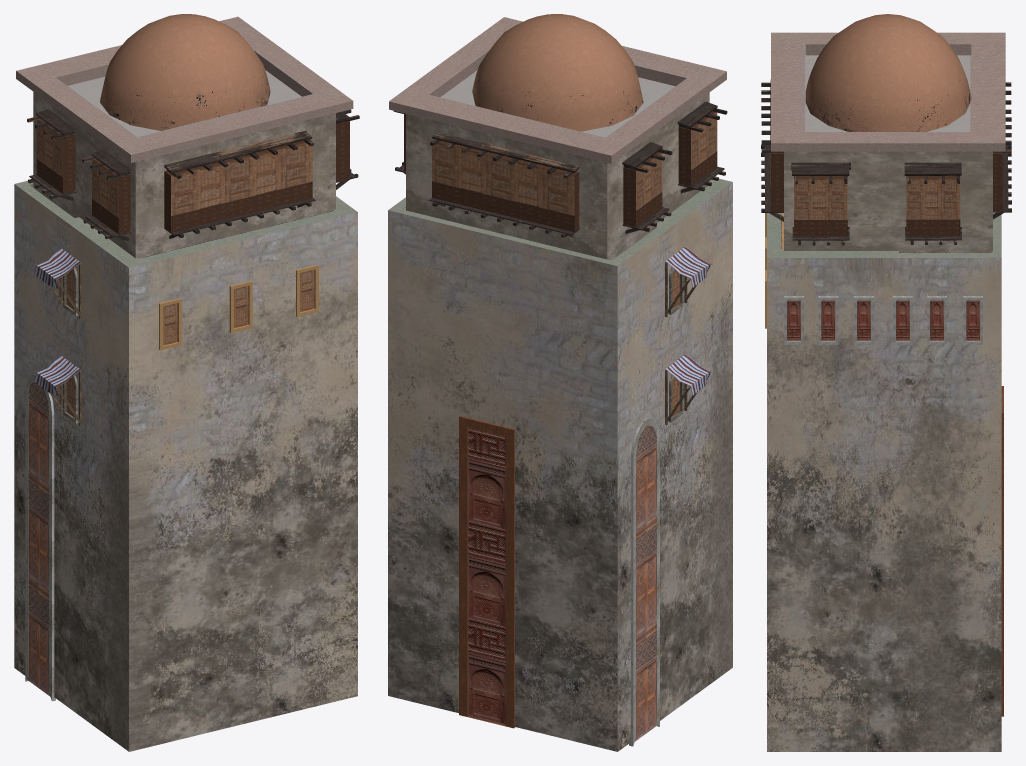
File: medina_cityscape_daar_05_3.gltf
3 renders of one model, left to right at view 1: azimuth 30°, elevation 25°; view 2: azimuth 150°, elevation 25°; view 3: azimuth 270°, elevation 25°, orthographic. The views are drawn at different scales.
Visible parts, largest first — view 1: medina_cityscape_daar_05_3; view 2: medina_cityscape_daar_05_3; view 3: medina_cityscape_daar_05_3.
Boxes of the visible parts, <box> form: medina_cityscape_daar_05_3: <box>14,14,359,751</box>; medina_cityscape_daar_05_3: <box>388,14,732,751</box>; medina_cityscape_daar_05_3: <box>761,14,1011,751</box>.
Bounding box in the file's own units: 5.57 × 12.98 × 4.36.
11 materials, 11 textured.
